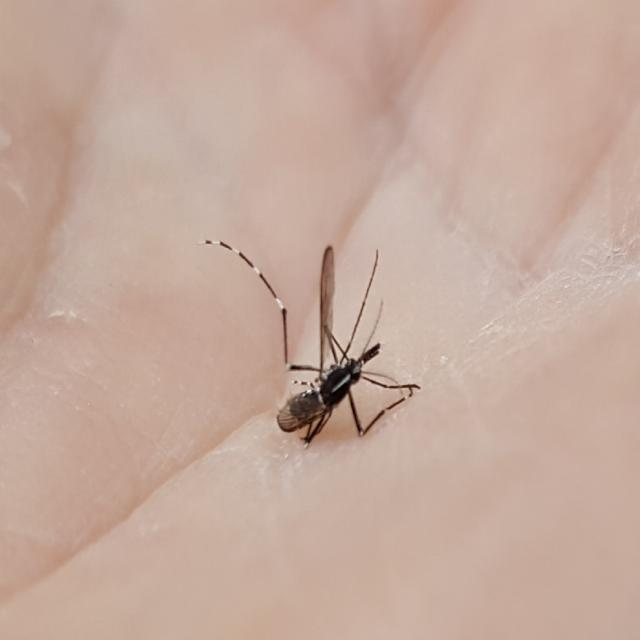albopictus: (199, 223, 411, 452)
